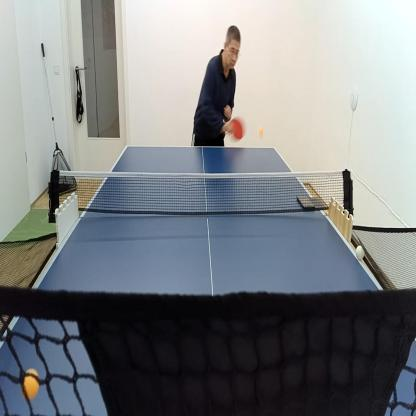Ball: (22, 366, 40, 399), (354, 244, 366, 262), (258, 124, 265, 137)
